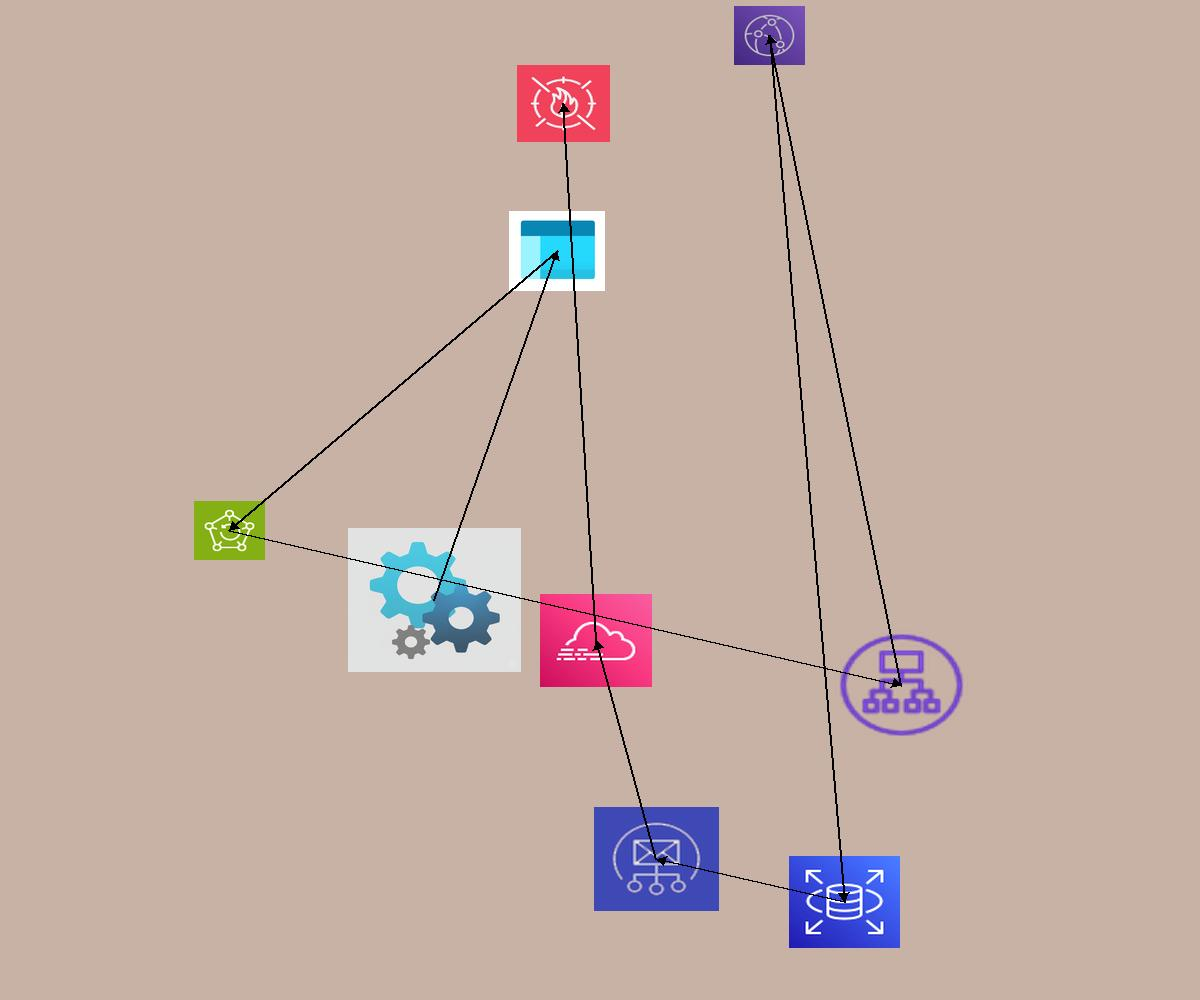AWS-Backup: (194, 501, 265, 560)
AWS-CloudFront: (734, 6, 805, 65)
AWS-CloudTrail: (540, 594, 652, 687)
AWS-RDS: (789, 856, 900, 948)
AWS-Res_Elastic-Load-Balancing_Application-Load-Balancer: (835, 630, 968, 740)
AWS-Simple-Email-Service: (594, 807, 719, 911)
AWS-WAF: (517, 65, 610, 142)
Azure_api: (348, 528, 521, 672)
Azure_management-portal: (509, 211, 605, 291)
